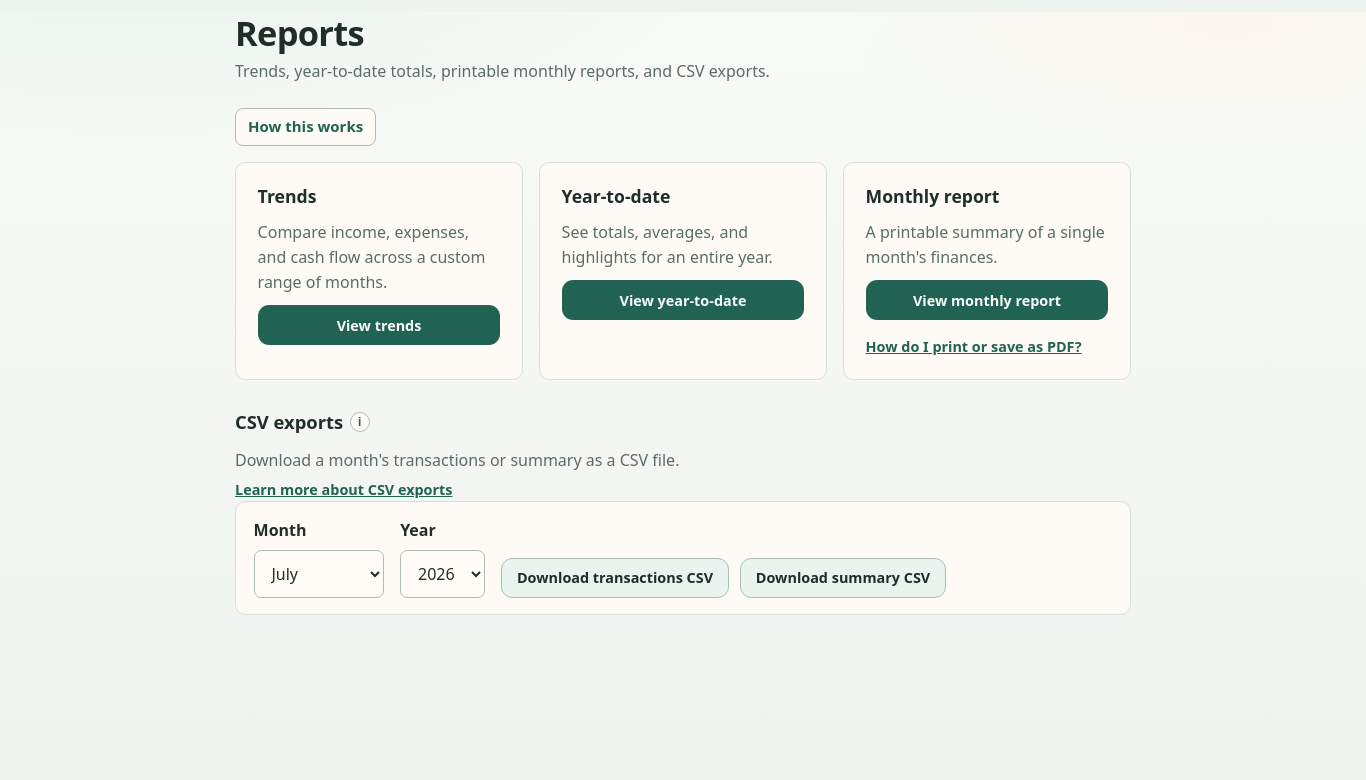
Test: ReportsPage › downloads a transactions CSV and shows a success message
The width and height of the screenshot is (1366, 780).
Click the button "Download transactions CSV". click: (615, 578)
box: [501, 558, 729, 598]
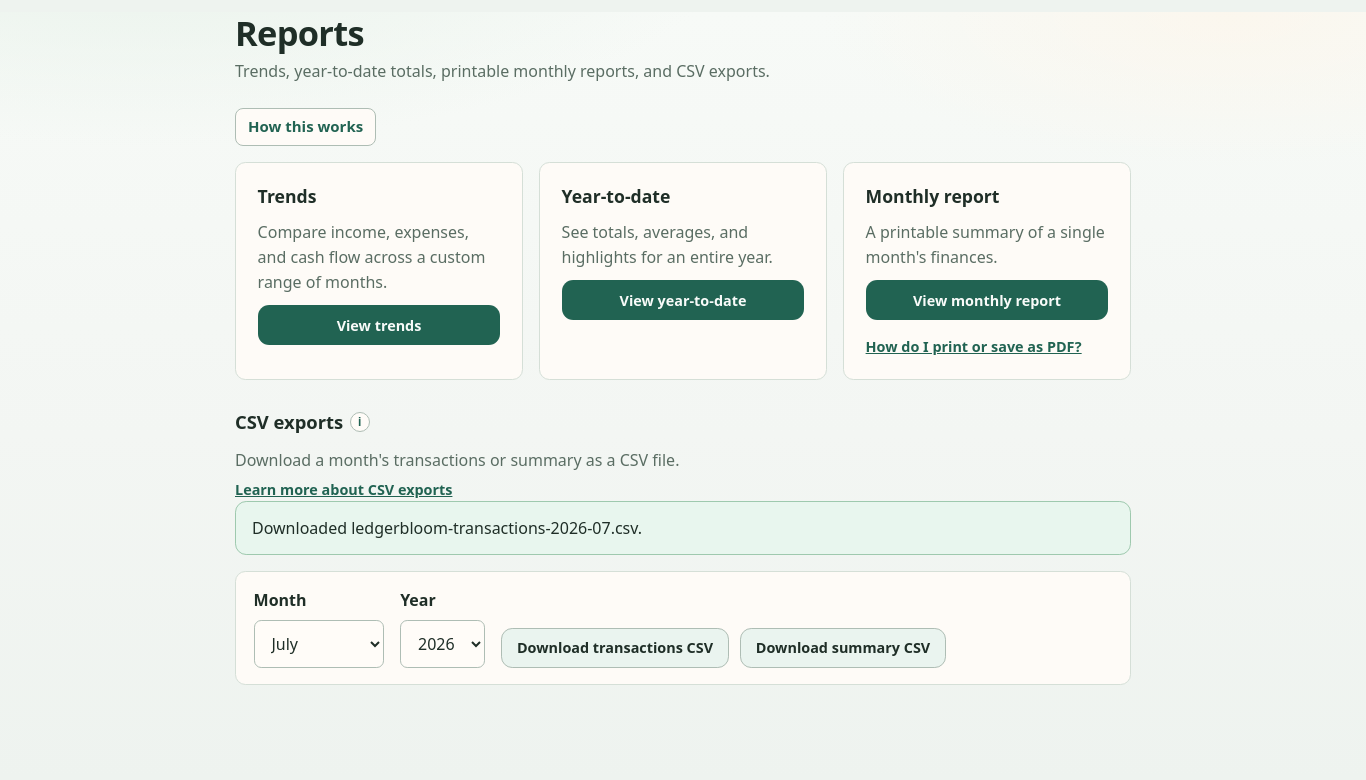
Expected: the text "Downloaded ledgerbloom-transactions-2026-07.csv." is shown, [235, 501, 1131, 555]
